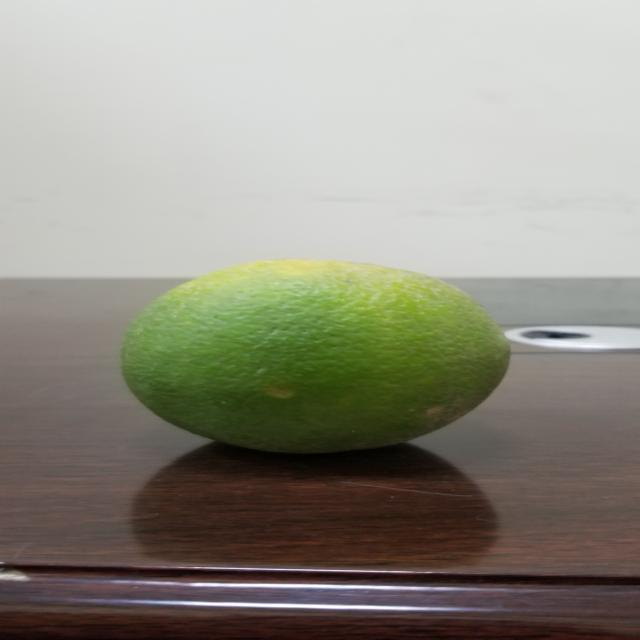Ripe orange: (124, 248, 509, 446)
